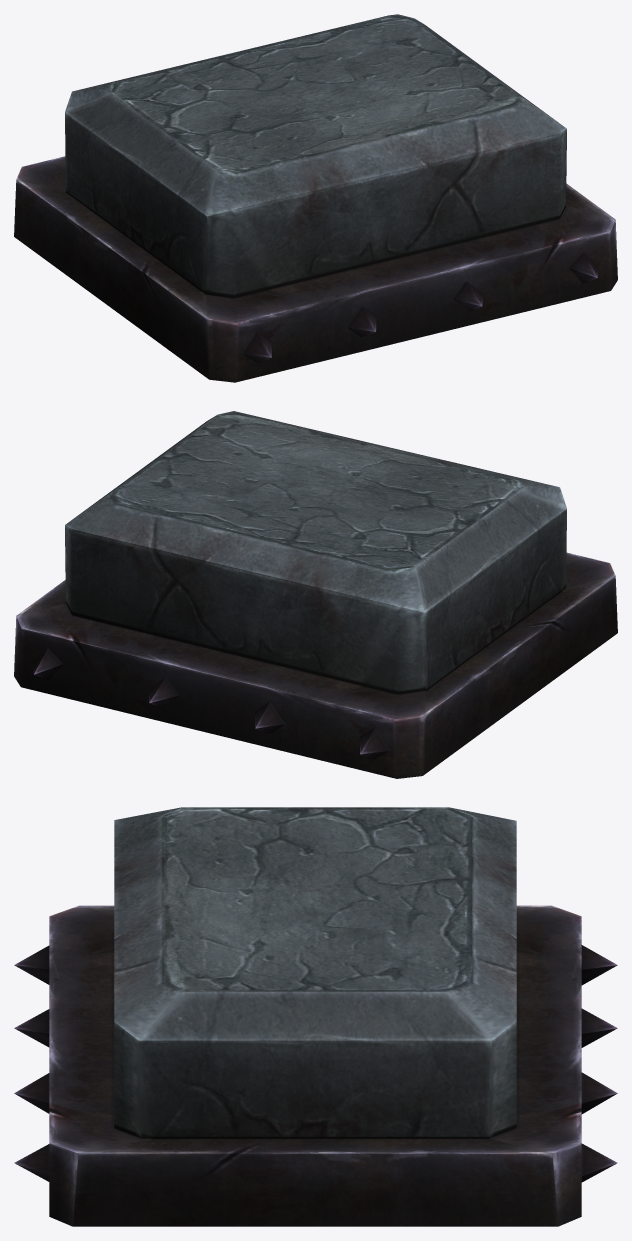
File: B_shikuai010.fbx
3 renders of one model, top to bottom at view 1: azimuth 30°, elevation 25°; view 2: azimuth 150°, elevation 25°; view 3: azimuth 270°, elevation 25°, orthographic. The views are drawn at different scales.
Visible parts, largest first — view 1: B_shikuai010; view 2: B_shikuai010; view 3: B_shikuai010.
Part boxes in pixels (<box>): B_shikuai010: <box>14,14,617,382</box>; B_shikuai010: <box>14,411,617,778</box>; B_shikuai010: <box>14,807,617,1226</box>.
Bounding box in the file's own units: 260 × 99.42 × 268.
